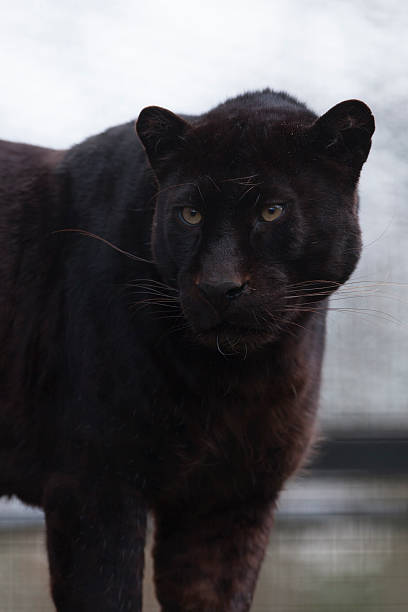panther: (104, 90, 398, 383)
